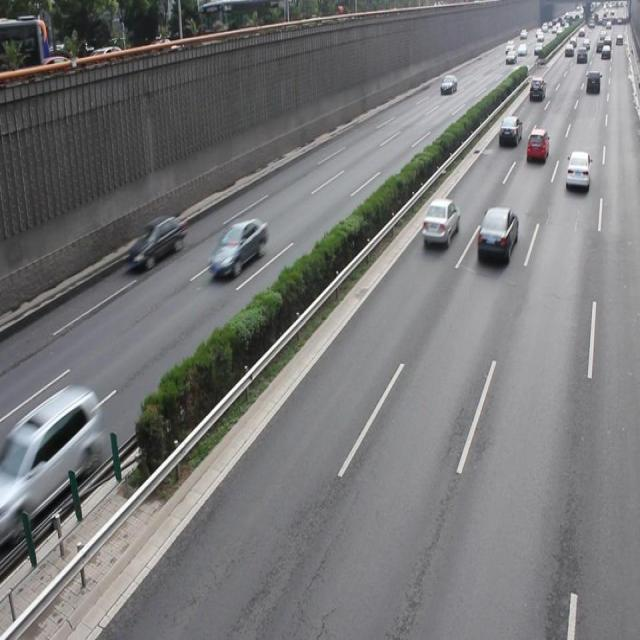car: (11, 384, 103, 526), (209, 216, 268, 280), (127, 214, 186, 272), (476, 204, 517, 265), (421, 196, 458, 246), (564, 149, 589, 189), (525, 126, 548, 164)
